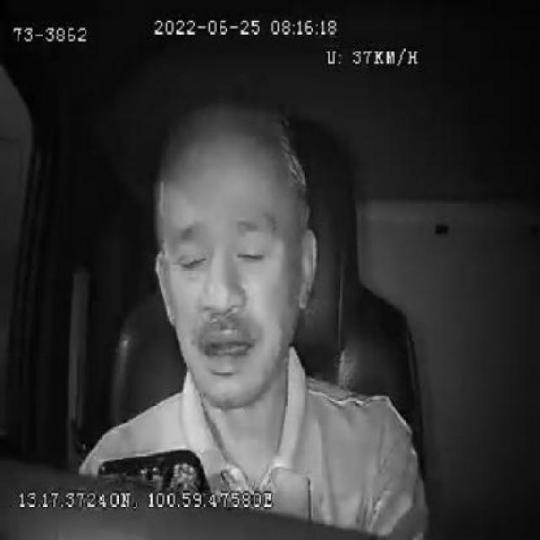phone: (98, 446, 210, 490)
